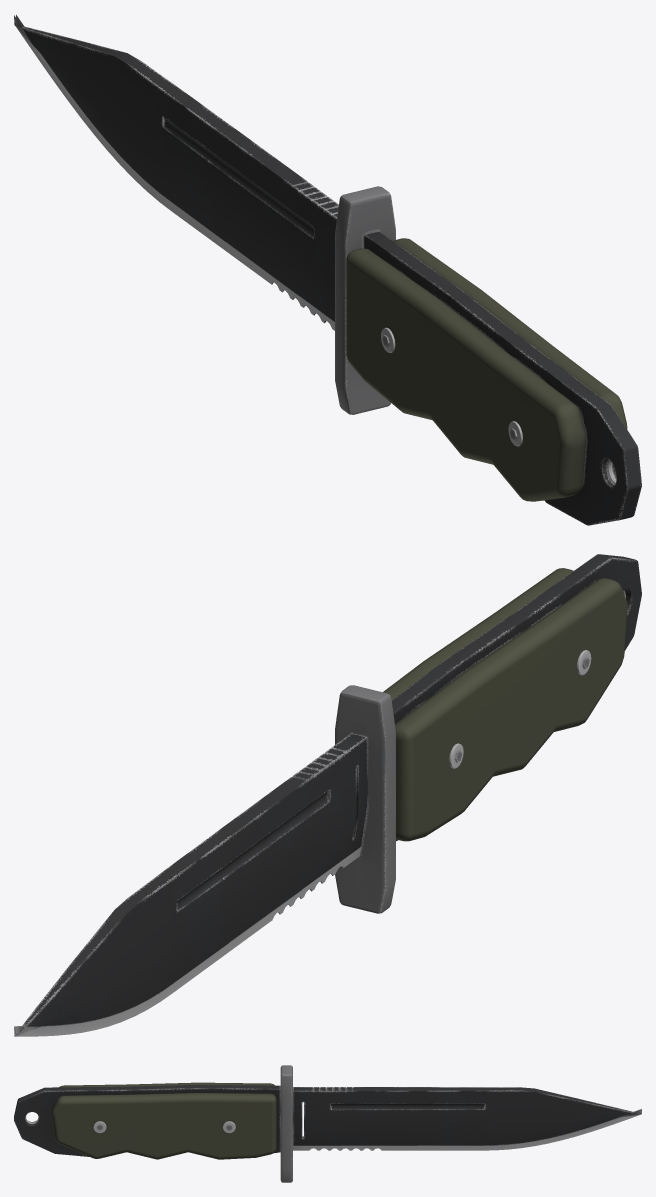
The model's file is cunmang.glb.
3 views of the same model, one above another, from view 1: azimuth 30°, elevation 25°; view 2: azimuth 150°, elevation 25°; view 3: azimuth 270°, elevation 25° (orthographic). The views are drawn at different scales.
Visible parts, largest first — view 1: body; view 2: body; view 3: body.
Boxes of the visible parts, bbox=[...] form: body: bbox=[14, 14, 641, 525]; body: bbox=[14, 554, 641, 1036]; body: bbox=[14, 1065, 641, 1182].
Bounding box in the file's own units: 0.0211 × 0.0585 × 0.3059.
Materials: 1 (1 with a texture image).
